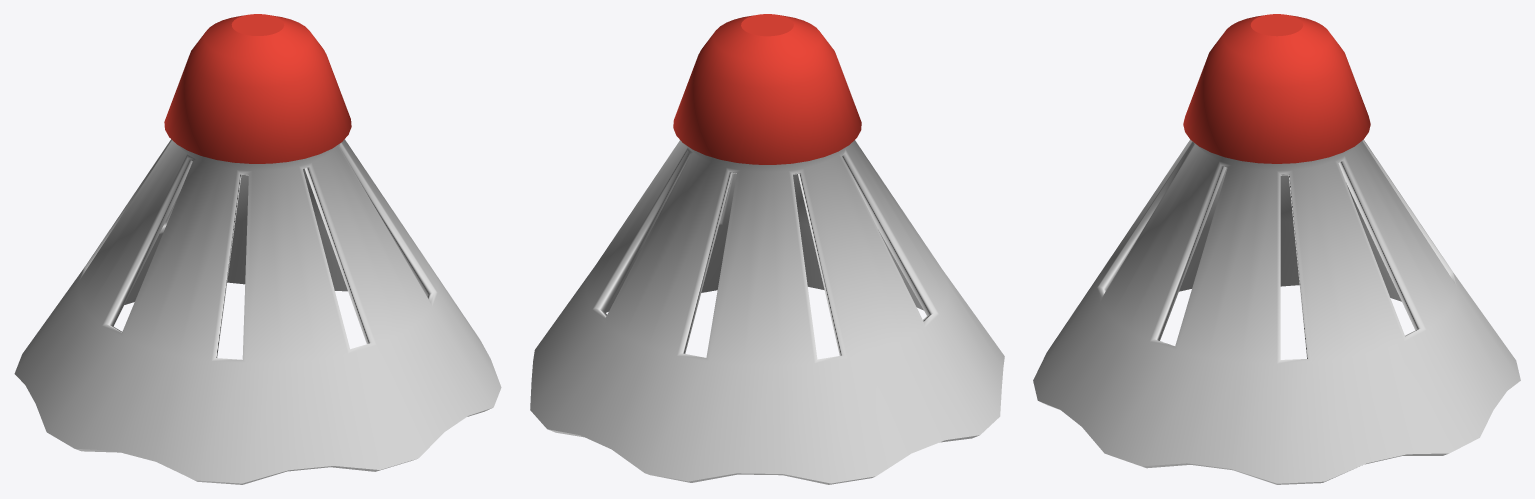
File: birdie.fbx
3 views of the same model, side by side, from view 1: azimuth 30°, elevation 25°; view 2: azimuth 150°, elevation 25°; view 3: azimuth 270°, elevation 25° (orthographic).
Parts seen in each view (by area): view 1: Birdie; view 2: Birdie; view 3: Birdie.
Boxes of the visible parts, x1,y1,x2,y2 form: Birdie: (14, 14, 501, 484); Birdie: (530, 14, 1004, 484); Birdie: (1033, 14, 1520, 484).
Bounding box in the file's own units: 333 × 272 × 333.
